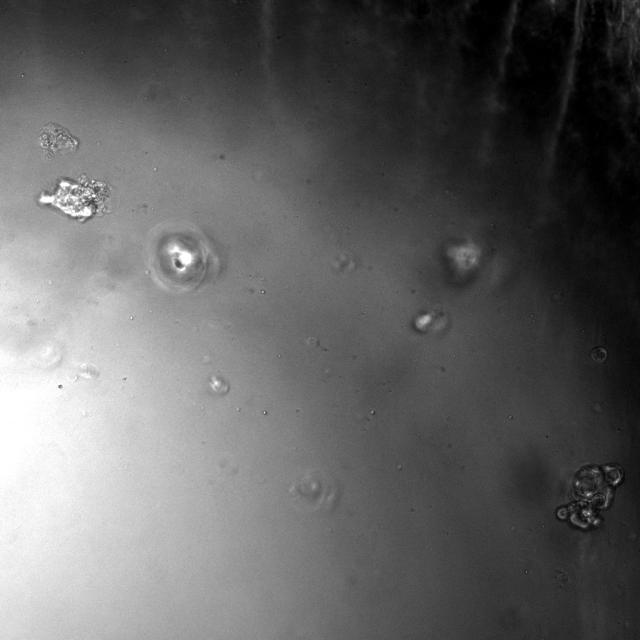organoid: (145, 220, 220, 294), (556, 463, 624, 529), (38, 174, 111, 222), (441, 237, 484, 286), (38, 122, 79, 159), (414, 309, 449, 333), (208, 375, 229, 396), (591, 346, 608, 363)
